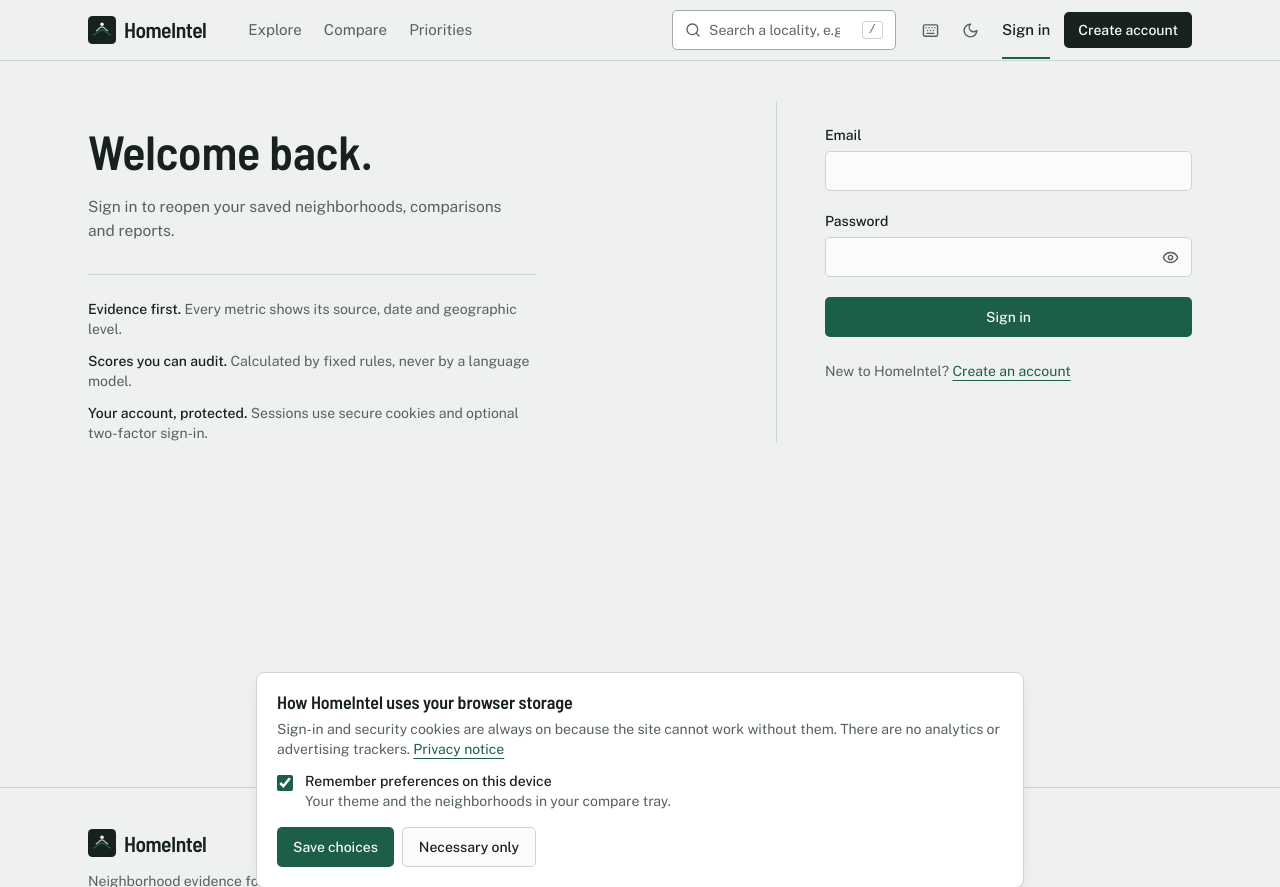
Test: sign-in › shows server errors without losing the form
Type "a@b.co" into the field labelled "Email". click: (1008, 171)
box: left=825, top=151, right=1192, bottom=191
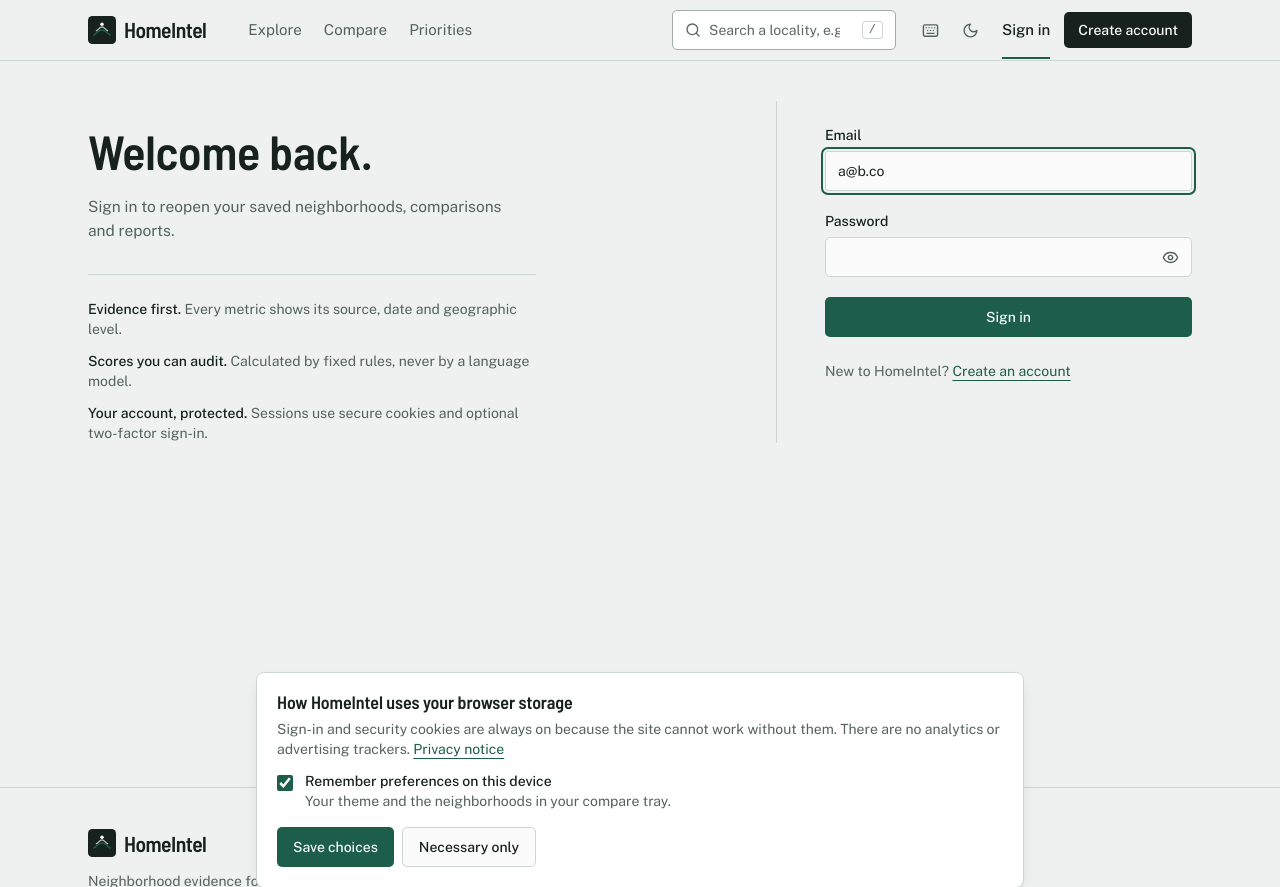
Type "whatever" into the password field labelled "Password". click: (1008, 257)
box: left=825, top=237, right=1192, bottom=277
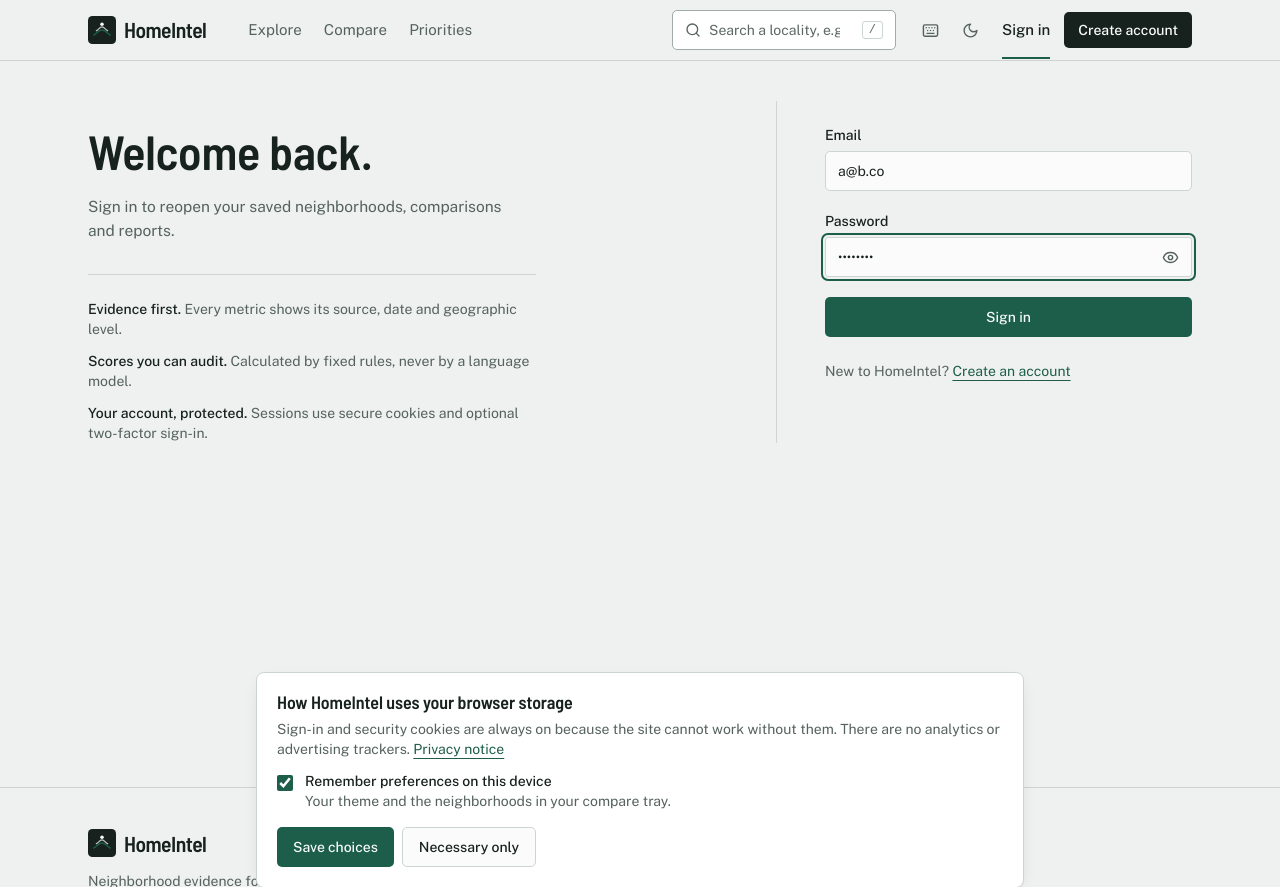
Click the button "Sign in". click: (1008, 317)
box: left=825, top=297, right=1192, bottom=337
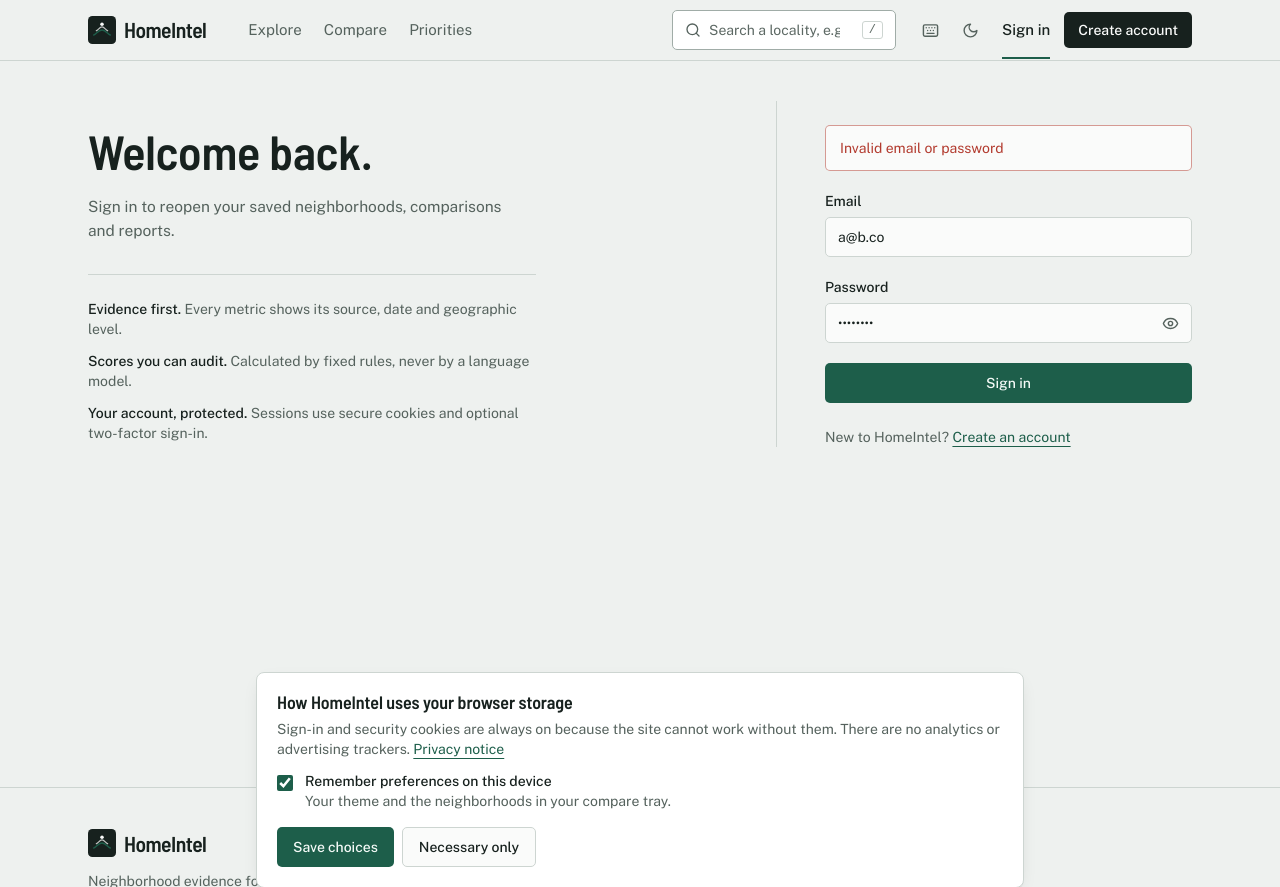
Check: the message reads "Invalid email or password", box left=840, top=140, right=1004, bottom=156
